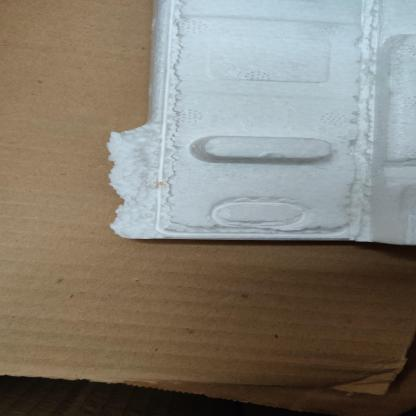kopuk: (106, 0, 414, 244)
